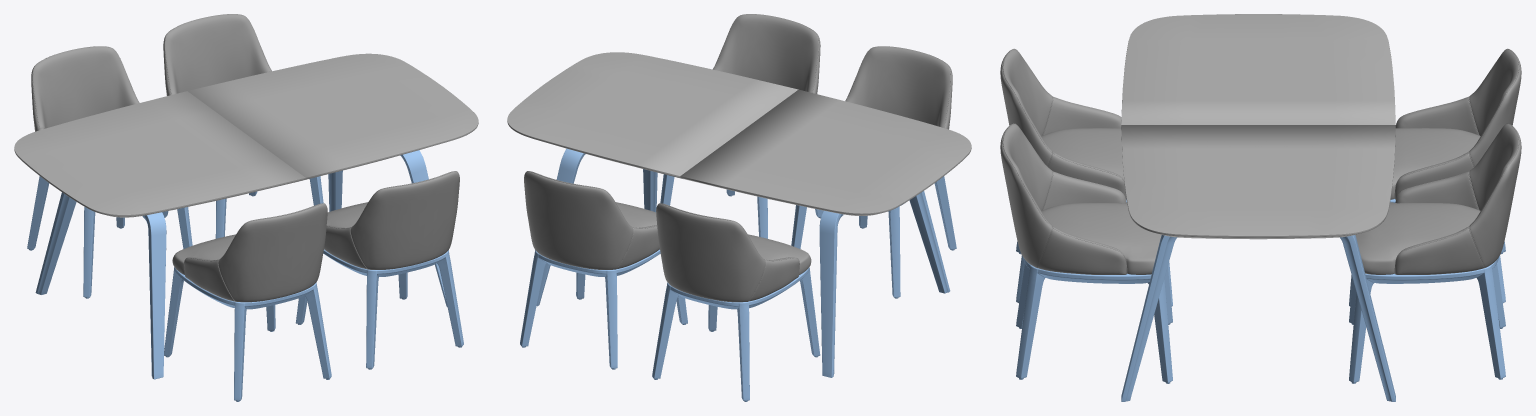
Rendered from table_boconcept_hauge.glb.
The picture shows the model from 3 angles, left to right: view 1: azimuth 30°, elevation 25°; view 2: azimuth 150°, elevation 25°; view 3: azimuth 270°, elevation 25°; orthographic projection. The views are drawn at different scales.
Visible parts, largest first — view 1: Object010, Object236, Plane114, Plane112, Plane019, Plane110, Plane002, Object239, Object238, Object007, Plane115, Object237 (+1 smaller); view 2: Object010, Object236, Plane019, Plane110, Plane114, Plane112, Plane002, Object007, Object237, Object239, Plane020, Object238 (+1 smaller); view 3: Object236, Object010, Plane110, Plane112, Plane019, Plane114, Plane111, Plane113, Plane002, Object238, Object237, Plane020 (+1 smaller).
Part boxes in pixels (<box>): Object010: <box>14,91,305,217</box>; Object236: <box>187,53,478,179</box>; Plane114: <box>184,203,327,302</box>; Plane112: <box>324,171,459,269</box>; Plane019: <box>31,46,139,131</box>; Plane110: <box>163,14,271,95</box>; Plane002: <box>35,150,447,379</box>; Object239: <box>164,267,331,401</box>; Object238: <box>295,249,463,369</box>; Object007: <box>27,176,192,298</box>; Plane115: <box>172,234,235,274</box>; Object237: <box>162,176,323,238</box>; Object010: <box>680,89,971,215</box>; Object236: <box>507,52,798,178</box>; Plane019: <box>656,203,799,302</box>; Plane110: <box>524,171,659,269</box>; Plane114: <box>845,46,952,129</box>; Plane112: <box>713,14,820,93</box>; Plane002: <box>536,148,950,377</box>; Object007: <box>652,267,820,401</box>; Object237: <box>520,249,687,369</box>; Object239: <box>791,176,956,298</box>; Plane020: <box>748,234,811,274</box>; Object238: <box>660,174,823,238</box>; Object236: <box>1121,125,1395,239</box>; Object010: <box>1121,14,1395,124</box>; Plane110: <box>1394,123,1521,274</box>; Plane112: <box>1000,123,1127,274</box>; Plane019: <box>1394,48,1521,199</box>; Plane114: <box>1000,48,1126,199</box>; Plane111: <box>1355,202,1480,274</box>; Plane113: <box>1041,203,1161,274</box>; Plane002: <box>1121,235,1395,401</box>; Object238: <box>1016,256,1172,383</box>; Object237: <box>1349,256,1505,383</box>; Plane020: <box>1390,128,1480,199</box>.
Bounding box in the file's own units: 1841 × 818 × 1827.
